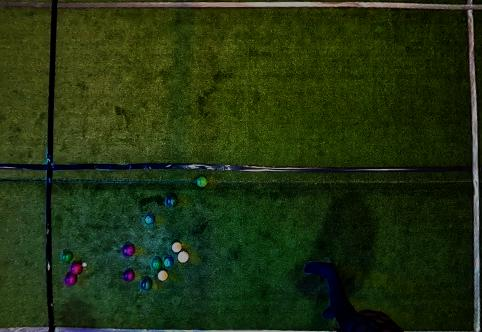blue: (163, 257, 174, 268), (145, 215, 155, 225)
green: (167, 195, 178, 207), (197, 176, 208, 188), (152, 258, 163, 269), (141, 279, 152, 290), (62, 252, 73, 262)
red: (177, 250, 189, 263), (65, 273, 77, 285), (123, 245, 135, 256), (124, 270, 135, 281), (71, 263, 82, 274)
vline: (1, 0, 58, 331), (465, 0, 481, 332)
white: (82, 262, 87, 267)
yellow: (172, 242, 182, 253), (158, 270, 168, 281)
